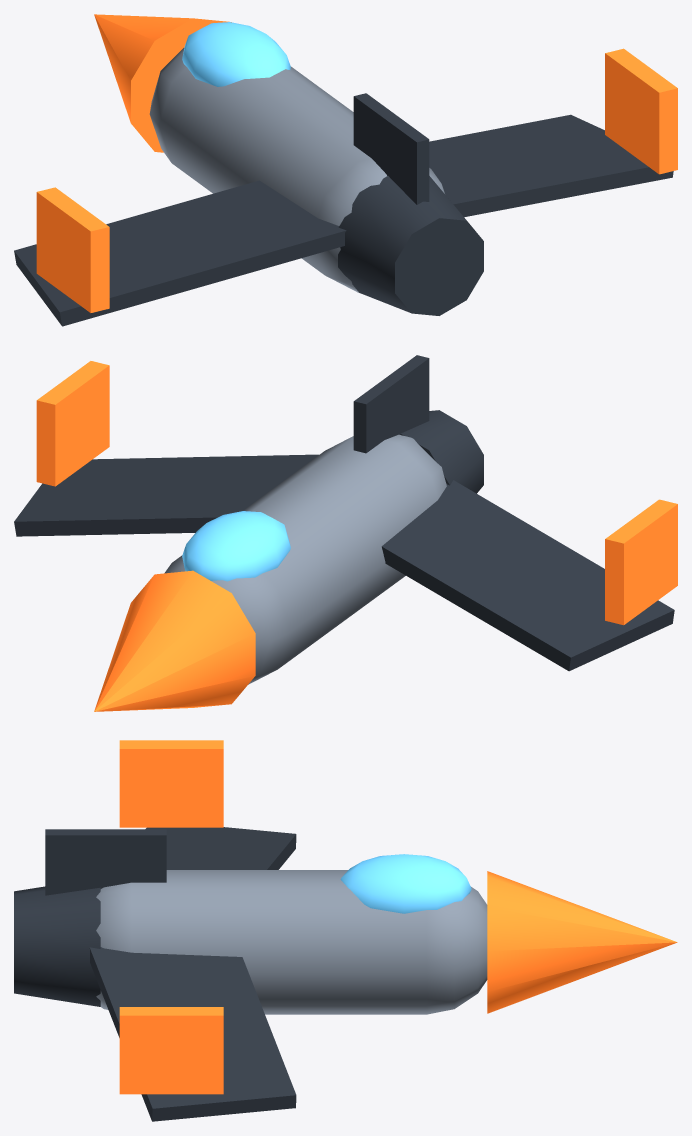
The model's file is ship.glb.
3 views of the same model, one above another, from view 1: azimuth 30°, elevation 25°; view 2: azimuth 150°, elevation 25°; view 3: azimuth 270°, elevation 25° (orthographic). The views are drawn at different scales.
Visible parts, largest first — view 1: fuselage, wing-left, wing-right, engine-block, wingtip-left, wingtip-right, nose-cone, cockpit, tail-fin; view 2: fuselage, wing-left, wing-right, nose-cone, wingtip-right, wingtip-left, cockpit, tail-fin, engine-block; view 3: fuselage, wing-right, nose-cone, wingtip-left, wingtip-right, engine-block, tail-fin, cockpit, wing-left.
Boxes of the visible parts, <box> form: fuselage: <box>149,48,444,292</box>; wing-left: <box>14,180,346,326</box>; wing-right: <box>429,114,673,217</box>; engine-block: <box>338,176,483,315</box>; wingtip-left: <box>36,187,109,312</box>; wingtip-right: <box>605,48,677,174</box>; nose-cone: <box>94,14,231,152</box>; cockpit: <box>182,22,290,86</box>; tail-fin: <box>353,93,429,204</box>; fuselage: <box>164,434,446,684</box>; wing-left: <box>381,480,674,671</box>; wing-right: <box>14,454,318,536</box>; nose-cone: <box>94,570,255,711</box>; wingtip-right: <box>36,361,109,486</box>; wingtip-left: <box>605,499,677,625</box>; cockpit: <box>182,511,290,581</box>; tail-fin: <box>353,355,429,453</box>; engine-block: <box>400,410,483,493</box>; fuselage: <box>96,870,487,1014</box>; wing-right: <box>89,947,296,1121</box>; nose-cone: <box>487,871,677,1013</box>; wingtip-left: <box>119,740,223,827</box>; wingtip-right: <box>119,1007,223,1094</box>; engine-block: <box>14,886,100,1006</box>; tail-fin: <box>45,829,166,895</box>; cockpit: <box>340,854,471,913</box>; wing-left: <box>145,827,296,869</box>.
Bounding box in the file's own units: 3.94 × 1.12 × 3.83.
